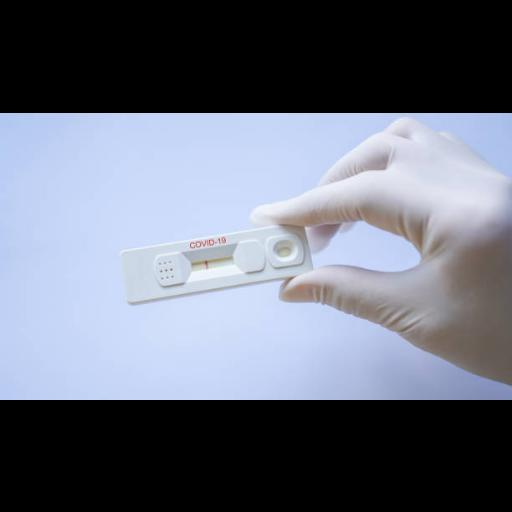Neg: (118, 217, 314, 305)
